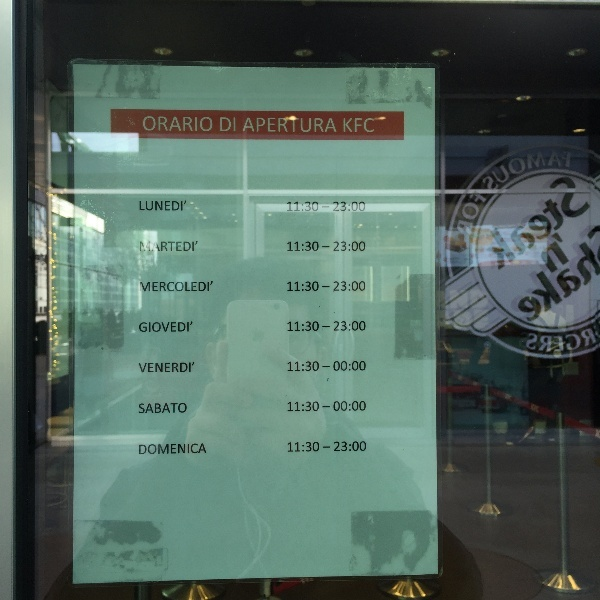text: (481, 130, 496, 336), (497, 130, 512, 336), (513, 130, 528, 336), (529, 130, 544, 336), (545, 130, 560, 336), (561, 130, 576, 336), (577, 130, 592, 336), (449, 107, 464, 247), (465, 107, 480, 247), (481, 107, 496, 247), (497, 107, 512, 247), (513, 107, 528, 247), (529, 107, 544, 247), (545, 107, 560, 247), (561, 107, 576, 247), (593, 130, 600, 336), (440, 107, 448, 247), (529, 300, 544, 365), (545, 300, 560, 365), (561, 300, 576, 365), (577, 300, 592, 365), (476, 130, 480, 336), (521, 300, 528, 365), (593, 300, 600, 365), (145, 113, 160, 135), (161, 113, 176, 135), (177, 113, 192, 135), (193, 113, 208, 135), (257, 115, 272, 136), (273, 115, 288, 136), (289, 115, 304, 136), (305, 115, 320, 136), (321, 115, 336, 136), (145, 318, 160, 338), (161, 318, 176, 338), (177, 318, 192, 338), (193, 441, 209, 459), (225, 115, 238, 137), (353, 116, 368, 135), (145, 279, 160, 297), (161, 279, 176, 297), (177, 279, 192, 297), (193, 279, 208, 297), (145, 360, 160, 378), (161, 360, 176, 378), (177, 360, 192, 378), (145, 441, 160, 459), (161, 441, 176, 459), (177, 441, 192, 459), (289, 199, 304, 217), (305, 199, 320, 217), (321, 199, 336, 217), (337, 199, 352, 217), (289, 278, 304, 296), (305, 278, 320, 296), (321, 278, 336, 296), (337, 278, 352, 296), (289, 318, 304, 336), (305, 318, 320, 336), (321, 318, 336, 336), (337, 318, 352, 336), (145, 239, 160, 256), (161, 239, 176, 256), (177, 239, 192, 256), (289, 239, 304, 256), (305, 239, 320, 256), (321, 239, 336, 256), (337, 239, 352, 256), (289, 359, 304, 376), (305, 359, 320, 376), (321, 359, 336, 376), (337, 359, 352, 376), (353, 318, 367, 336), (145, 400, 160, 416), (161, 400, 176, 416), (353, 239, 367, 256), (353, 359, 367, 376), (353, 199, 366, 217), (353, 278, 366, 296), (289, 399, 304, 414), (305, 399, 320, 414), (321, 399, 336, 414), (337, 399, 352, 414), (246, 115, 256, 136), (145, 199, 160, 213), (161, 199, 176, 213), (353, 399, 367, 414), (289, 440, 304, 453), (305, 440, 320, 453), (321, 440, 336, 453), (337, 440, 352, 453), (342, 116, 352, 135), (353, 440, 367, 453), (177, 400, 188, 416), (177, 199, 189, 213), (369, 116, 376, 135), (137, 360, 144, 378), (137, 441, 144, 459), (137, 400, 144, 416), (209, 113, 214, 135), (138, 279, 144, 297), (209, 279, 215, 297), (138, 239, 144, 256), (193, 239, 199, 256), (220, 115, 224, 137), (138, 199, 144, 213), (140, 318, 144, 338), (193, 318, 196, 338), (193, 360, 196, 378), (337, 115, 339, 136), (286, 318, 288, 336), (143, 113, 144, 135), (287, 199, 288, 217), (287, 239, 288, 256), (287, 359, 288, 376)
